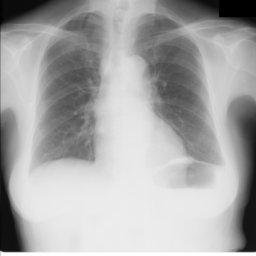left lobe: (135, 15, 221, 164)
right lobe: (34, 13, 104, 164)
